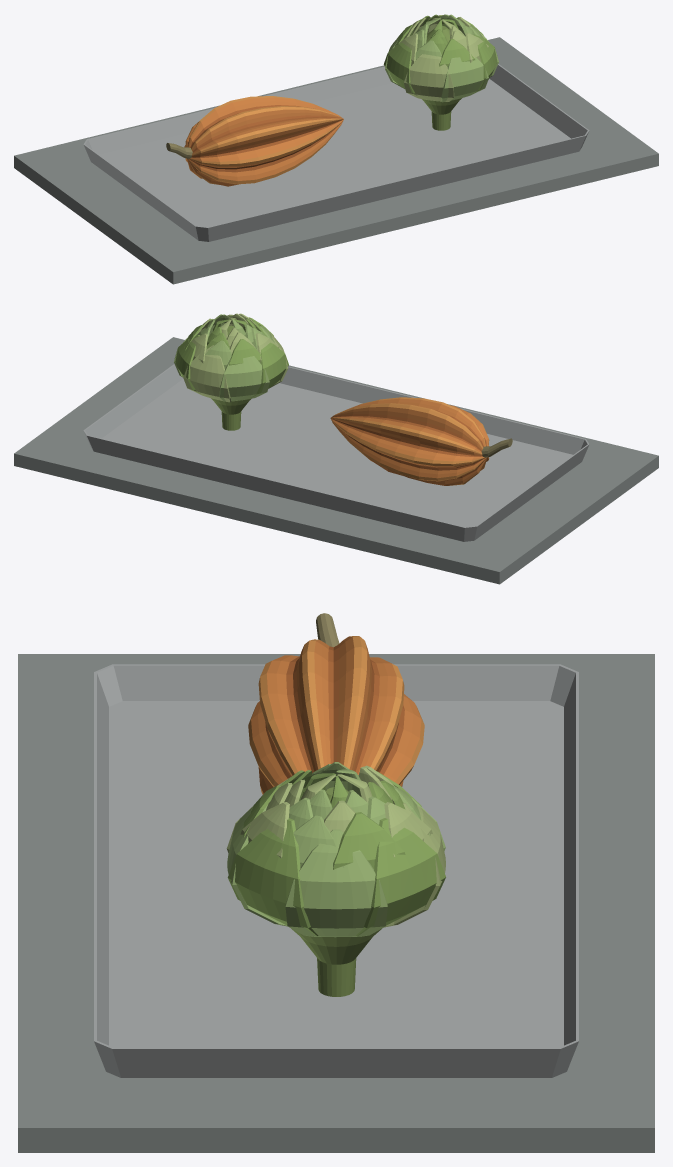
The picture shows the model from 3 angles, top to bottom: view 1: azimuth 30°, elevation 25°; view 2: azimuth 150°, elevation 25°; view 3: azimuth 270°, elevation 25°; orthographic projection. The views are drawn at different scales.
Parts seen in each view (by area): view 1: tray__Shallow baking tray, SCENE_ONLY__InspectionTraySlab, cacao__WholeClosedAxiallyRibbedCacaoBody, artichoke__WholeCuppedFleshyBract_01_06, artichoke__WholeCuppedFleshyBract_01_07, artichoke__WholeCuppedFleshyBract_01_05, artichoke__WholeStalkAndEnclosedReceptacle, artichoke__WholeCuppedFleshyBract_01_08, artichoke__WholeCuppedFleshyBract_02_07; view 2: tray__Shallow baking tray, SCENE_ONLY__InspectionTraySlab, cacao__WholeClosedAxiallyRibbedCacaoBody, artichoke__WholeCuppedFleshyBract_01_04, artichoke__WholeCuppedFleshyBract_01_03, artichoke__WholeCuppedFleshyBract_01_05, artichoke__WholeStalkAndEnclosedReceptacle, artichoke__WholeCuppedFleshyBract_01_02, artichoke__WholeCuppedFleshyBract_02_04; view 3: tray__Shallow baking tray, SCENE_ONLY__InspectionTraySlab, cacao__WholeClosedAxiallyRibbedCacaoBody, artichoke__WholeCuppedFleshyBract_01_01, artichoke__WholeCuppedFleshyBract_01_08, artichoke__WholeCuppedFleshyBract_01_02, artichoke__WholeStalkAndEnclosedReceptacle, artichoke__WholeCuppedFleshyBract_02_01, artichoke__WholeCuppedFleshyBract_01_03, artichoke__WholeCuppedFleshyBract_02_08, artichoke__WholeCuppedFleshyBract_02_09, artichoke__WholeCuppedFleshyBract_01_07 (+1 smaller).
Boxes of the visible parts, x1,y1,x2,y2 form: tray__Shallow baking tray: [83, 64, 589, 241]; SCENE_ONLY__InspectionTraySlab: [14, 37, 658, 284]; cacao__WholeClosedAxiallyRibbedCacaoBody: [184, 96, 343, 186]; artichoke__WholeCuppedFleshyBract_01_06: [404, 54, 454, 101]; artichoke__WholeCuppedFleshyBract_01_07: [441, 56, 488, 102]; artichoke__WholeCuppedFleshyBract_01_05: [383, 42, 416, 95]; artichoke__WholeStalkAndEnclosedReceptacle: [422, 26, 461, 130]; artichoke__WholeCuppedFleshyBract_01_08: [473, 34, 497, 91]; artichoke__WholeCuppedFleshyBract_02_07: [439, 39, 475, 66]; tray__Shallow baking tray: [83, 364, 589, 541]; SCENE_ONLY__InspectionTraySlab: [14, 337, 658, 584]; cacao__WholeClosedAxiallyRibbedCacaoBody: [330, 397, 489, 485]; artichoke__WholeCuppedFleshyBract_01_04: [219, 356, 269, 401]; artichoke__WholeCuppedFleshyBract_01_03: [183, 345, 231, 402]; artichoke__WholeCuppedFleshyBract_01_05: [249, 342, 288, 398]; artichoke__WholeStalkAndEnclosedReceptacle: [211, 325, 251, 430]; artichoke__WholeCuppedFleshyBract_01_02: [174, 335, 200, 392]; artichoke__WholeCuppedFleshyBract_02_04: [229, 339, 261, 365]; tray__Shallow baking tray: [94, 664, 578, 1077]; SCENE_ONLY__InspectionTraySlab: [18, 654, 654, 1152]; cacao__WholeClosedAxiallyRibbedCacaoBody: [248, 636, 424, 794]; artichoke__WholeCuppedFleshyBract_01_01: [285, 829, 387, 937]; artichoke__WholeCuppedFleshyBract_01_08: [227, 818, 318, 936]; artichoke__WholeCuppedFleshyBract_01_02: [356, 818, 445, 936]; artichoke__WholeStalkAndEnclosedReceptacle: [291, 787, 381, 996]; artichoke__WholeCuppedFleshyBract_02_01: [333, 812, 405, 869]; artichoke__WholeCuppedFleshyBract_01_03: [384, 803, 445, 927]; artichoke__WholeCuppedFleshyBract_02_08: [240, 802, 289, 858]; artichoke__WholeCuppedFleshyBract_02_09: [293, 815, 343, 867]; artichoke__WholeCuppedFleshyBract_01_07: [227, 805, 287, 926].
Bounding box in the file's own units: 0.74 × 0.1788 × 0.42.
